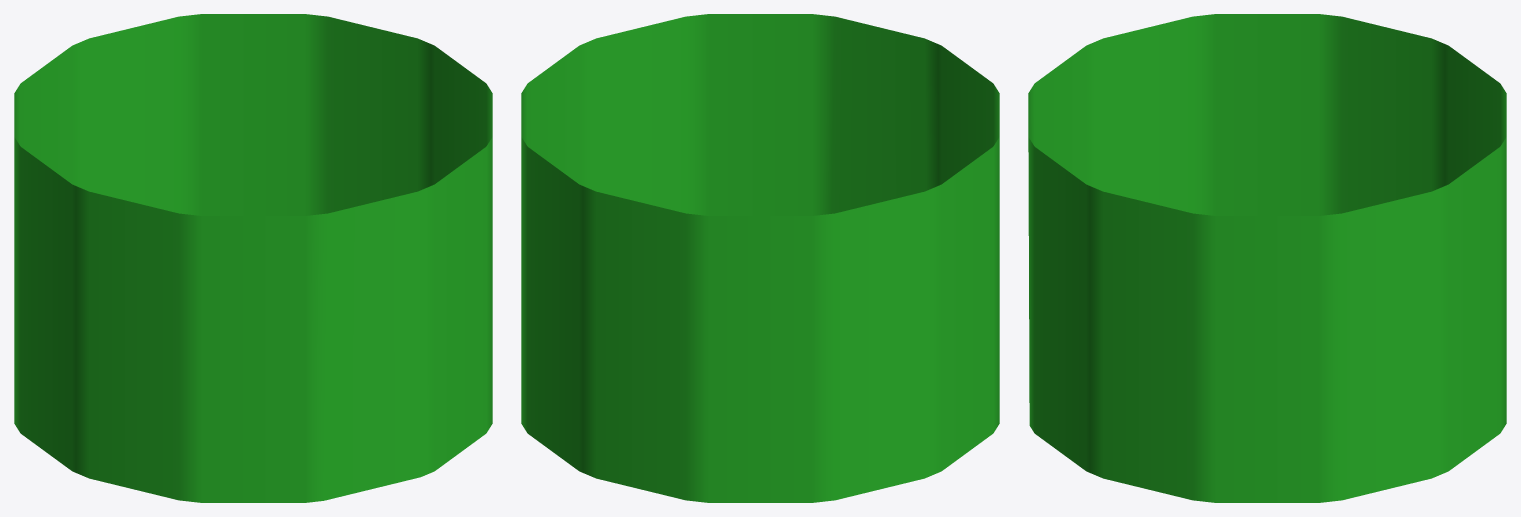
File: TowerWalls_01.fbx
3 views of the same model, side by side, from view 1: azimuth 30°, elevation 25°; view 2: azimuth 150°, elevation 25°; view 3: azimuth 270°, elevation 25° (orthographic).
Parts seen in each view (by area): view 1: TowerWalls_01; view 2: TowerWalls_01; view 3: TowerWalls_01.
Part boxes in pixels (box(x1,y1,x2,y2)): TowerWalls_01: box(14, 14, 492, 502); TowerWalls_01: box(521, 14, 999, 502); TowerWalls_01: box(1028, 14, 1506, 502).
Size of the model in its own units: 767 by 508 by 767.
